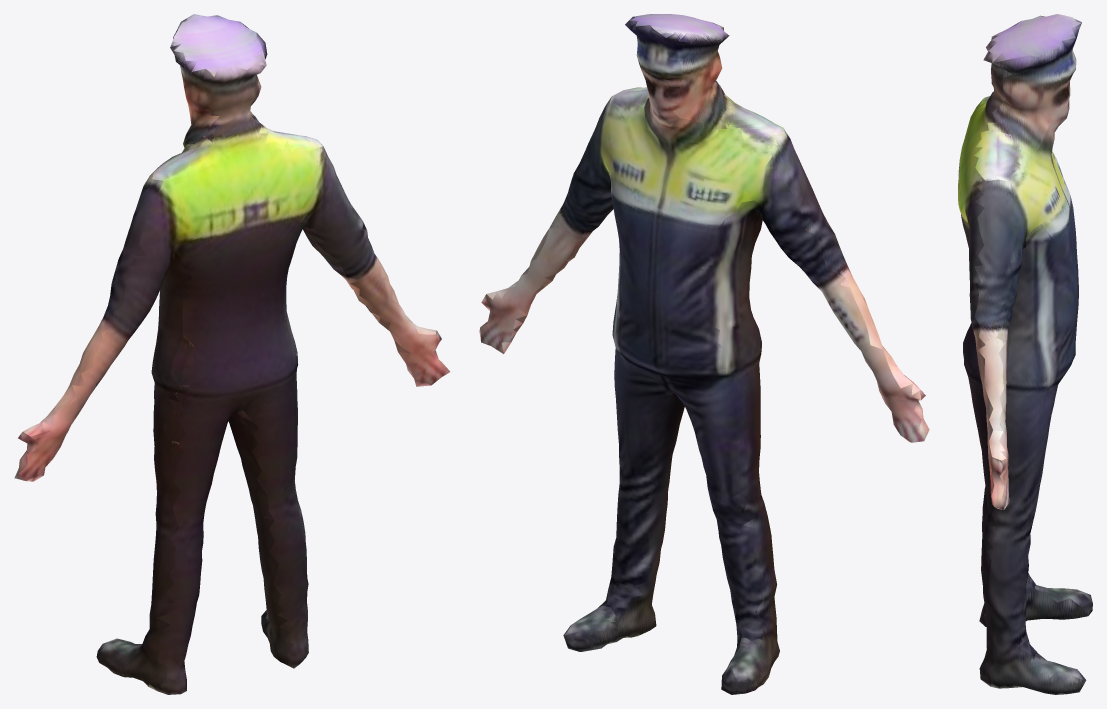
3 renders of one model, left to right at view 1: azimuth 30°, elevation 25°; view 2: azimuth 150°, elevation 25°; view 3: azimuth 270°, elevation 25°, orthographic. The views are drawn at different scales.
Parts seen in each view (by area): view 1: world; view 2: world; view 3: world.
Part boxes in pixels (bbox=[...]): world: bbox=[14, 14, 449, 694]; world: bbox=[479, 14, 929, 694]; world: bbox=[958, 14, 1092, 694].
Size of the model in its own units: 0.7278 by 1.01 by 0.1946.
Materials: 1 (1 with a texture image).
